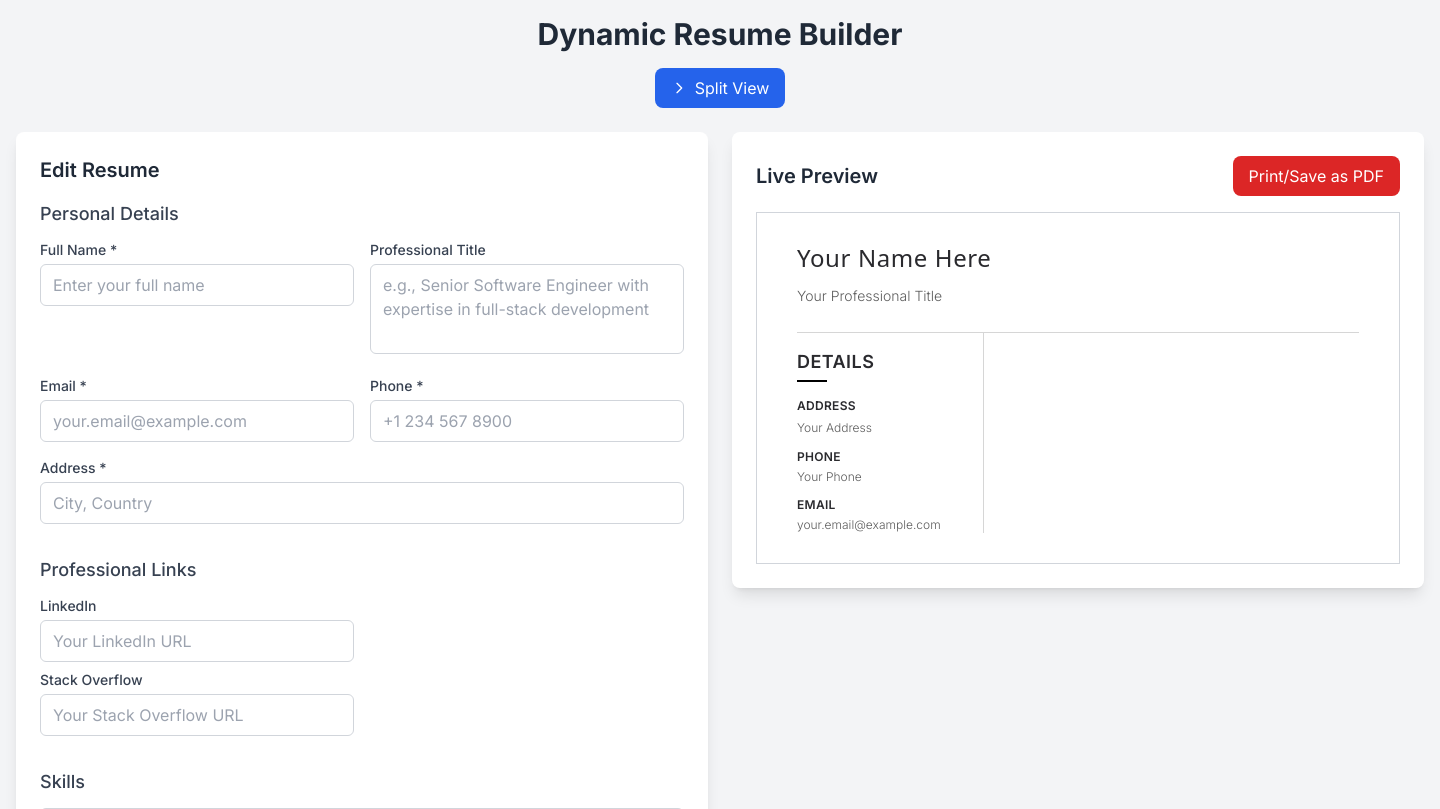
BuilderPage Component › email validation works correctly
Note: Enter invalid email
Step 1. Type "invalid-email" into the field with placeholder "your.email@example.com" → (197, 421), box left=40, top=400, right=354, bottom=442
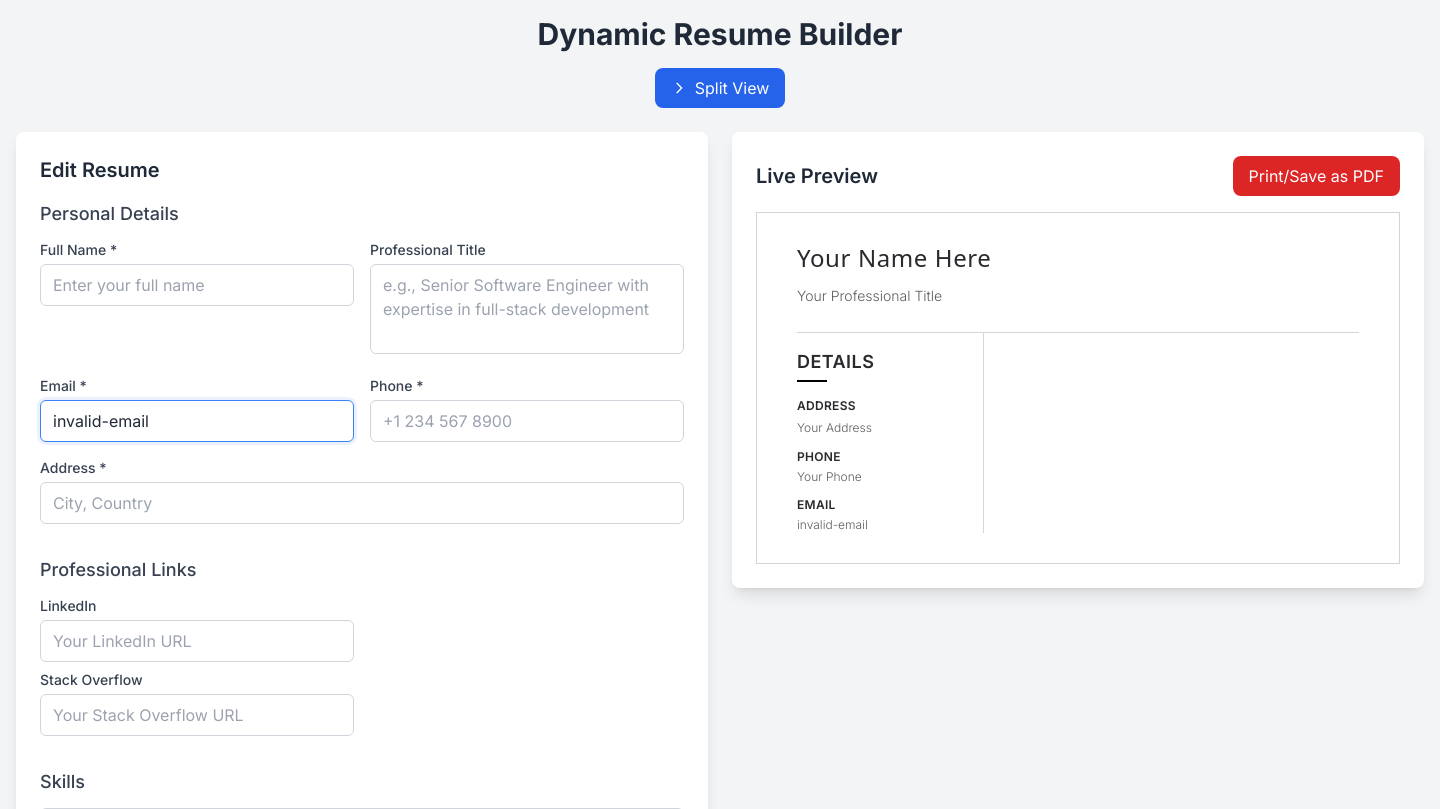
Note: Trigger validation by trying to download PDF
Step 2. Click the button "Print/Save as PDF" → click(1316, 176), box left=1233, top=156, right=1400, bottom=196
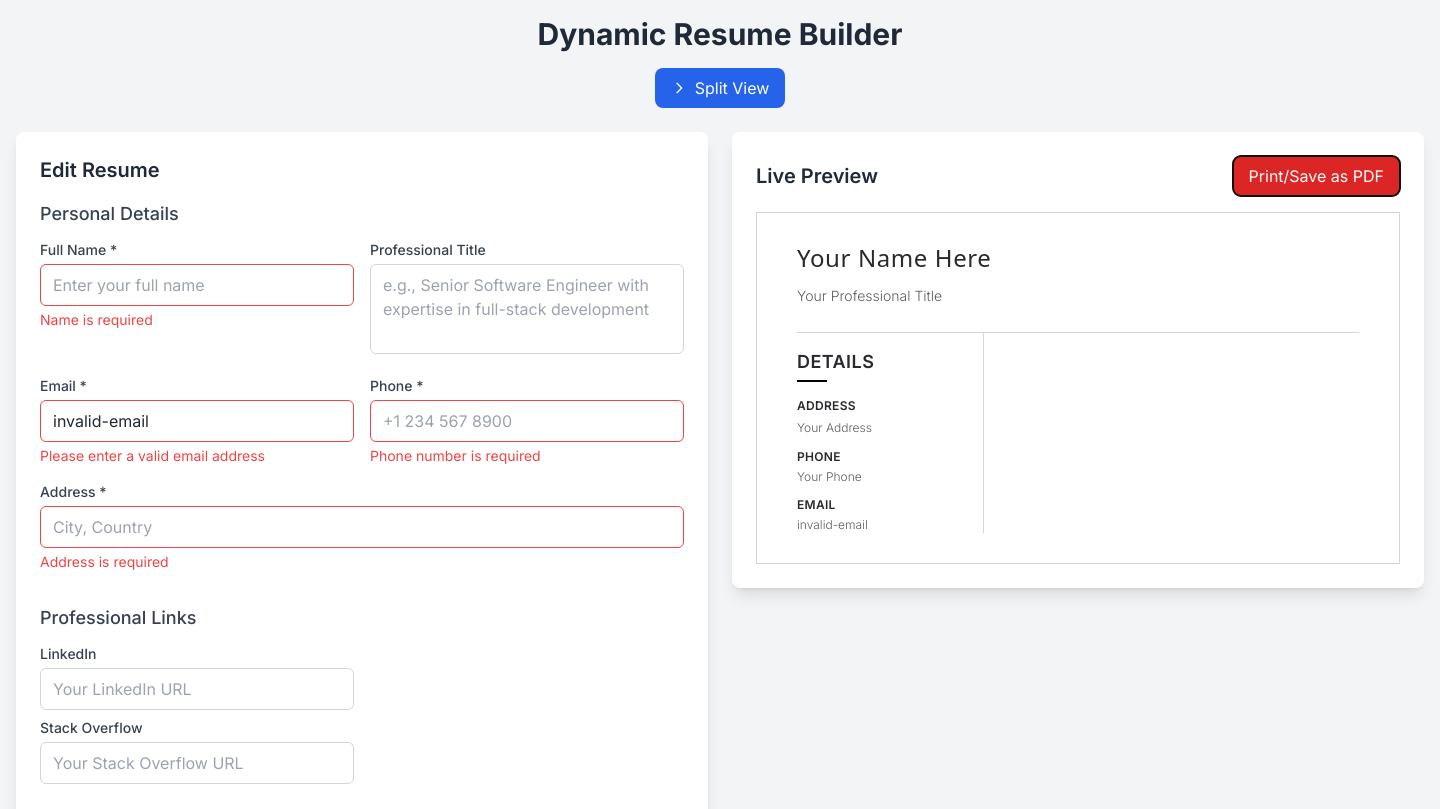
Now the text "Please enter a valid email address" is shown, box left=40, top=447, right=265, bottom=464
